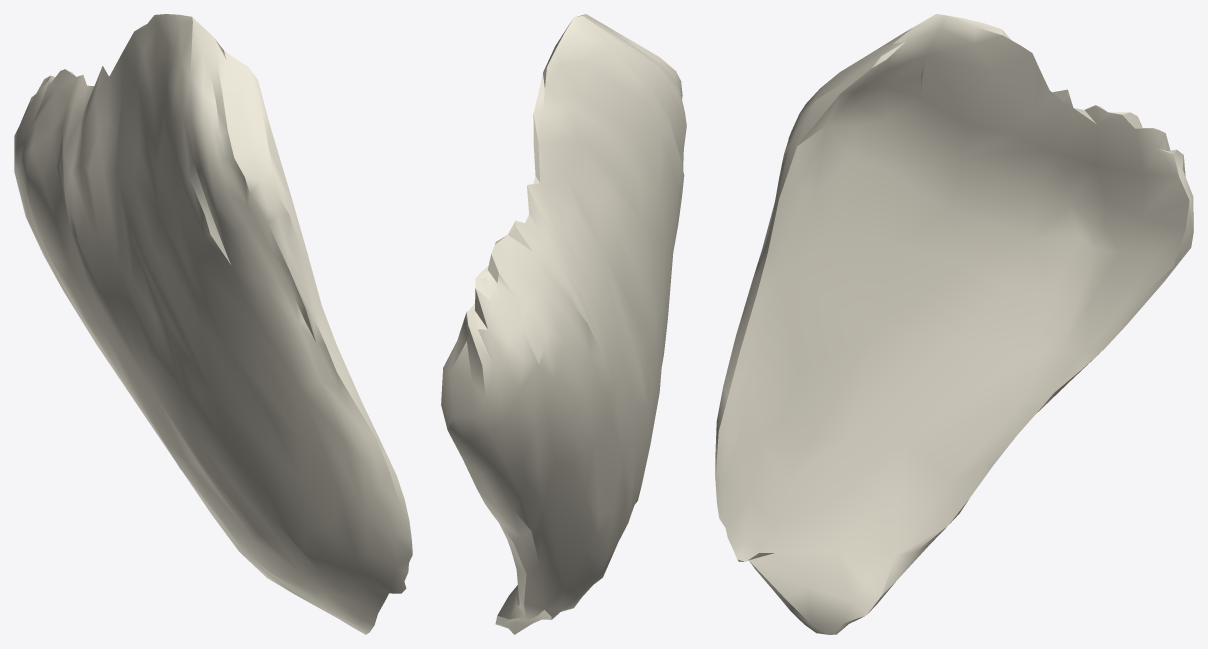
File: fma321710-l_mm1490.glb
3 views of the same model, side by side, from view 1: azimuth 30°, elevation 25°; view 2: azimuth 150°, elevation 25°; view 3: azimuth 270°, elevation 25° (orthographic). The views are drawn at different scales.
Parts seen in each view (by area): view 1: FMA321710-L_MM1490; view 2: FMA321710-L_MM1490; view 3: FMA321710-L_MM1490.
Part boxes in pixels (left/top/right/bottom): FMA321710-L_MM1490: left=14, top=14, right=412, bottom=634; FMA321710-L_MM1490: left=441, top=14, right=686, bottom=634; FMA321710-L_MM1490: left=715, top=14, right=1193, bottom=634.
Bounding box in the file's own units: 0.00548 × 0.0169 × 0.0129.
